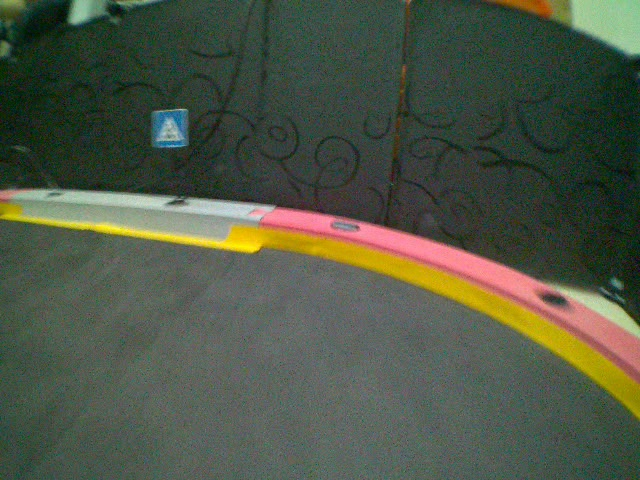crossing: (150, 107, 195, 153)
